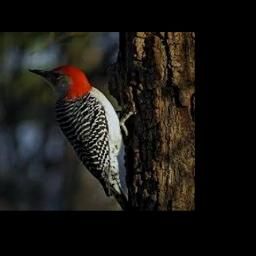Woodpecker: (29, 65, 132, 211)
